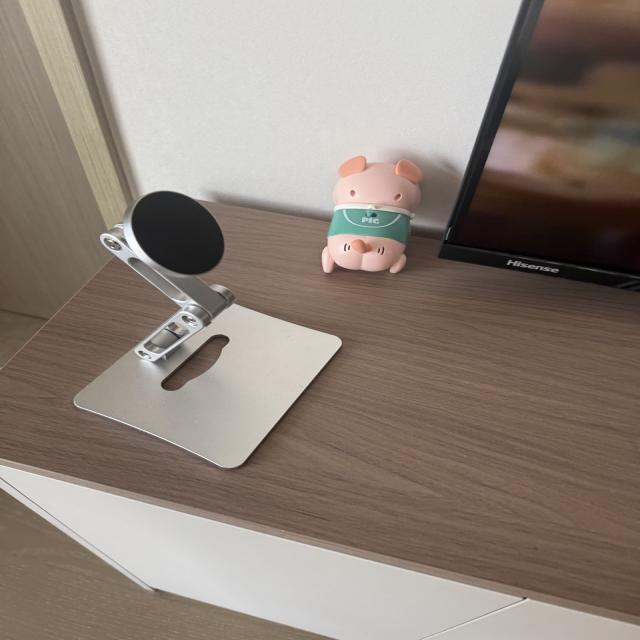phone holder: (58, 163, 348, 473)
